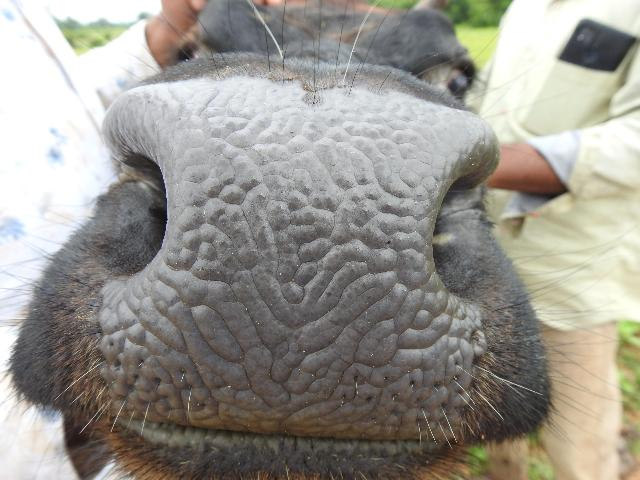Muzzle: (143, 101, 451, 440)
